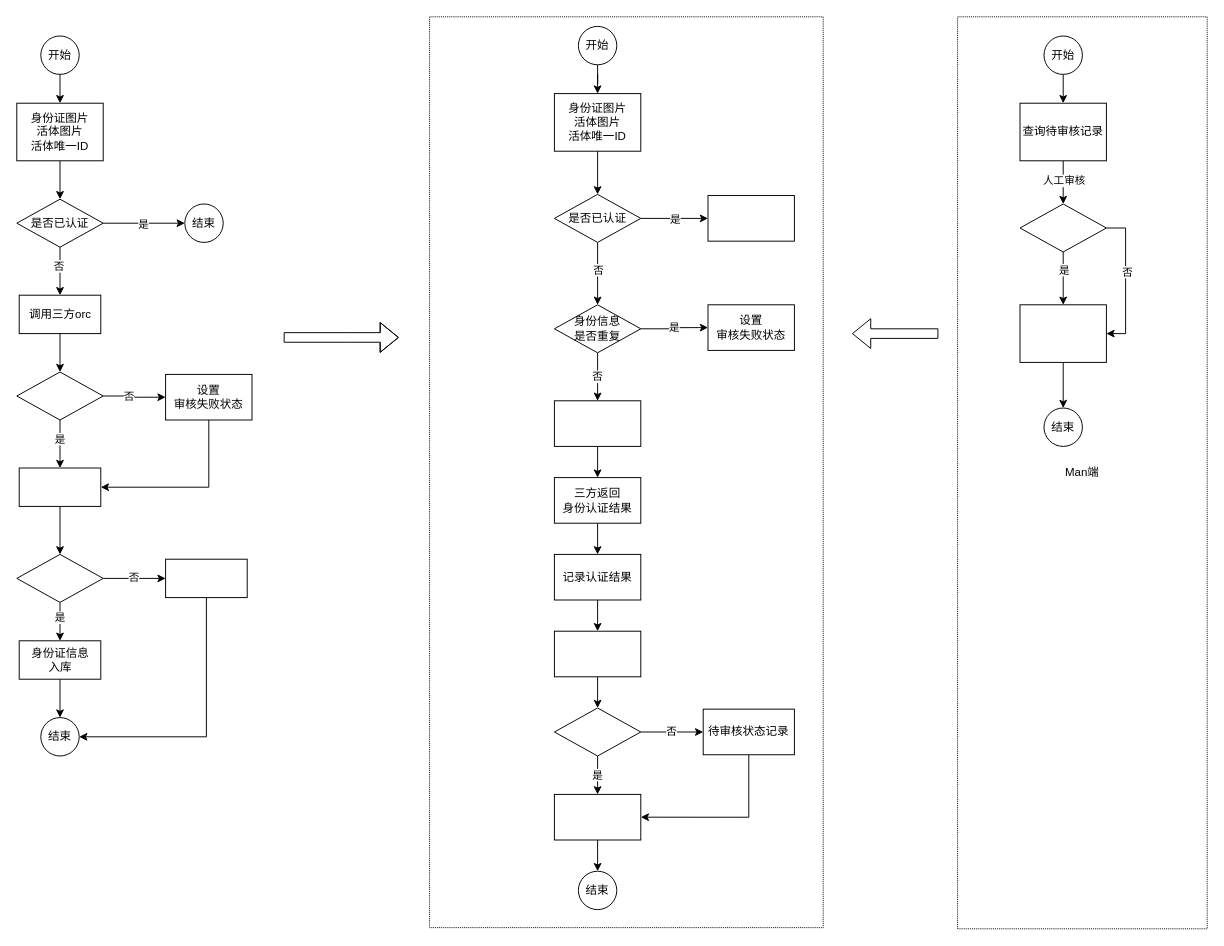
The diagram is 1224 pixels wide and 946 high, and some of its shapes have lost their labels. Here are the shapes that lost their labels. From the top down, the centre of each, then its label:
At pixel 750 218: "设置 信息检测状态".
At pixel 1062 227: "是否通过".
At pixel 1062 333: "记录审核状态".
At pixel 59 395: "是否真实".
At pixel 597 423: "调用三方认证".
At pixel 59 486: "更新用户身份信息".
At pixel 59 577: "是否 第一次审核".
At pixel 206 578: "更新身份信息 入库".
At pixel 597 653: "调用 三方活体检测".
At pixel 597 731: "是否 验证通过".
At pixel 597 816: "发送审核结果".
